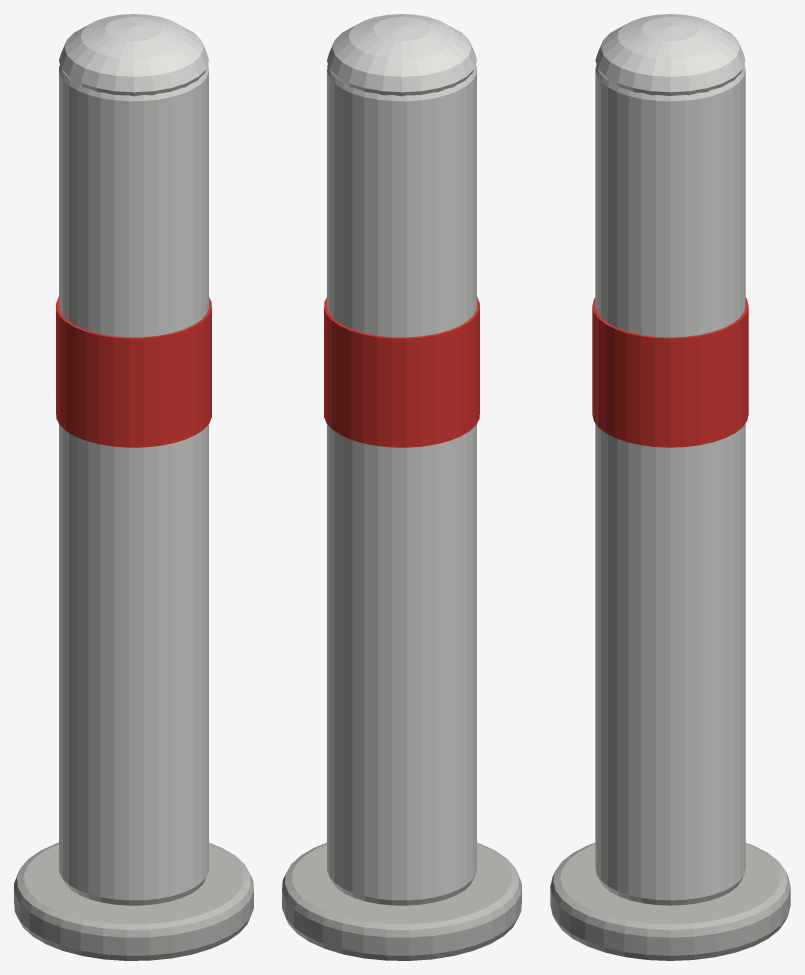
The model's file is bollard.glb.
3 views of the same model, side by side, from view 1: azimuth 30°, elevation 25°; view 2: azimuth 150°, elevation 25°; view 3: azimuth 270°, elevation 25° (orthographic).
Visible parts, largest first — view 1: bollard; view 2: bollard; view 3: bollard.
Boxes of the visible parts, <box> form: bollard: <box>14,14,253,960</box>; bollard: <box>282,14,521,960</box>; bollard: <box>550,14,790,960</box>.
Bounding box in the file's own units: 0.24 × 0.9775 × 0.24.
